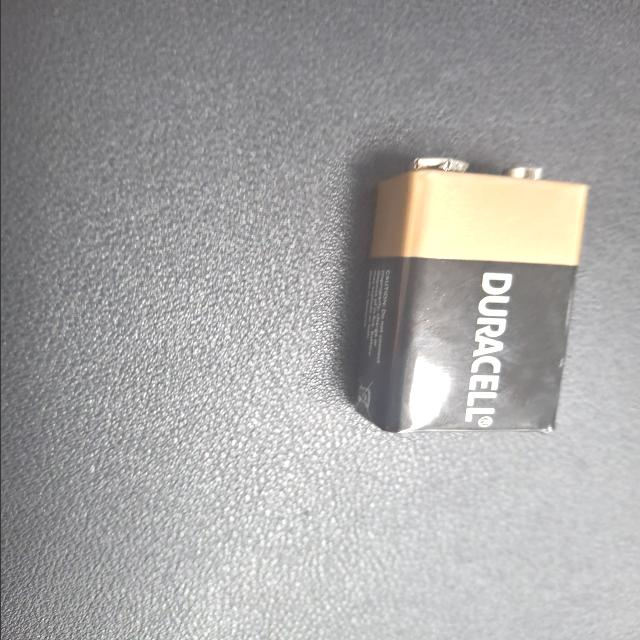9V: (0, 36, 371, 216)
